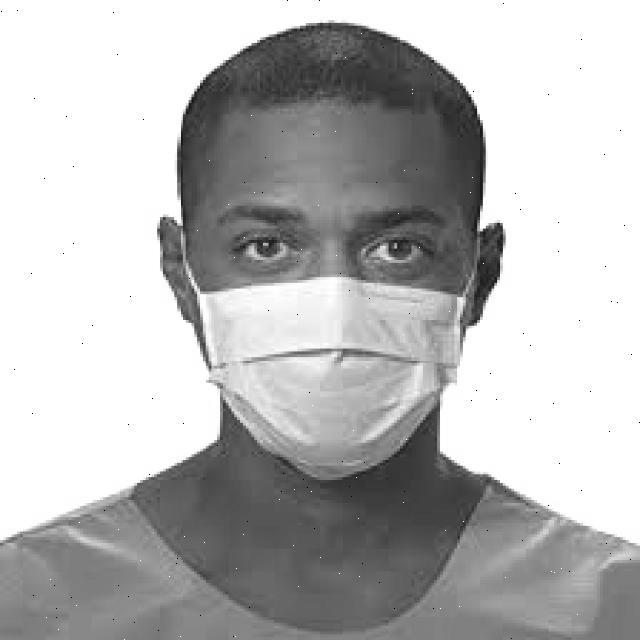fake: (198, 286, 471, 481)
real: (185, 114, 474, 497)
